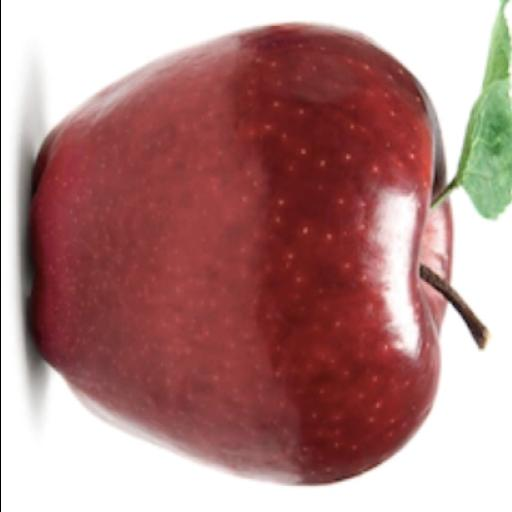apple: (30, 25, 450, 484)
